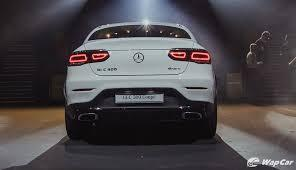mercedes: (130, 49, 147, 66)
